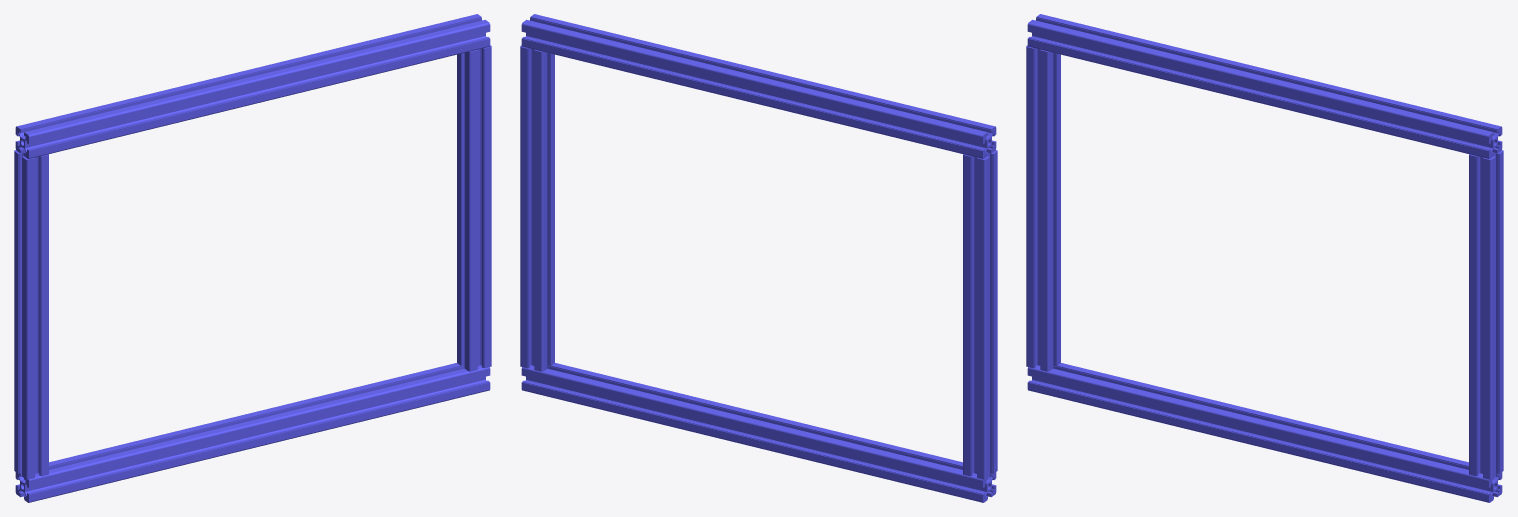
File: Cajon.obj
3 renders of one model, left to right at view 1: azimuth 30°, elevation 25°; view 2: azimuth 150°, elevation 25°; view 3: azimuth 330°, elevation 25°, orthographic.
Visible parts, largest first — view 1: mesh_3, mesh_2, mesh_1, mesh_0; view 2: mesh_3, mesh_2, mesh_1, mesh_0; view 3: mesh_3, mesh_2, mesh_0, mesh_1.
Boxes of the visible parts, left/top/right/bottom form: mesh_3: left=15, top=14, right=490, bottom=158; mesh_2: left=15, top=363, right=490, bottom=502; mesh_1: left=14, top=150, right=48, bottom=479; mesh_0: left=457, top=45, right=491, bottom=371; mesh_3: left=521, top=14, right=996, bottom=158; mesh_2: left=521, top=363, right=996, bottom=502; mesh_1: left=963, top=150, right=997, bottom=479; mesh_0: left=520, top=45, right=554, bottom=371; mesh_3: left=1027, top=14, right=1502, bottom=158; mesh_2: left=1027, top=363, right=1502, bottom=502; mesh_0: left=1469, top=150, right=1503, bottom=479; mesh_1: left=1026, top=45, right=1060, bottom=371.
Bounding box in the file's own units: 808 × 610 × 40.
